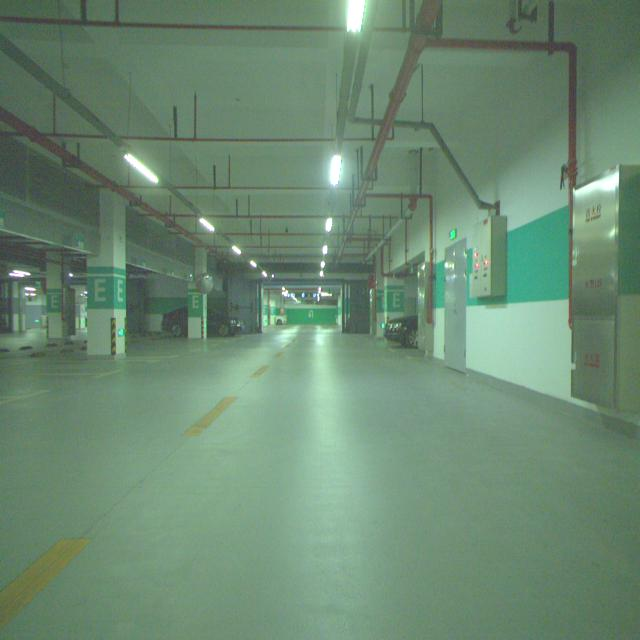pillar: (86, 188, 126, 355), (188, 249, 208, 339)
